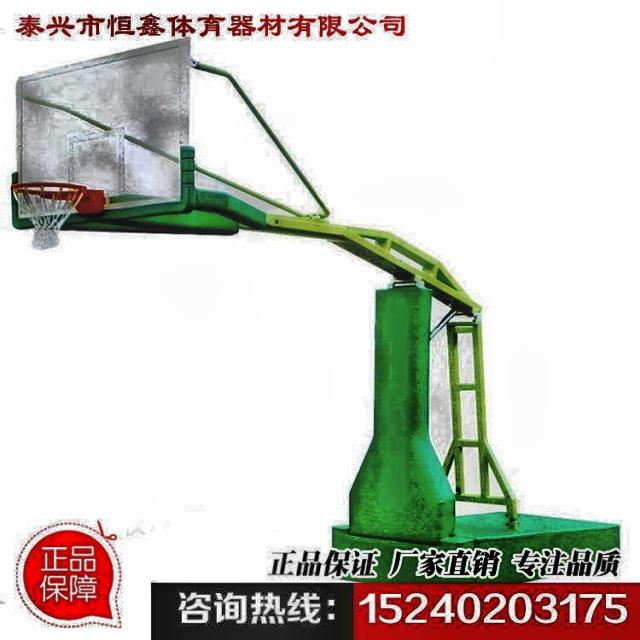rim: (6, 180, 84, 248)
